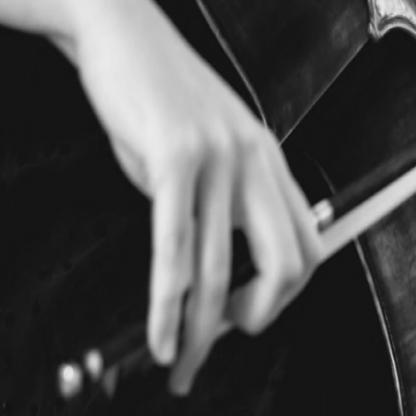good: (132, 82, 333, 398)
